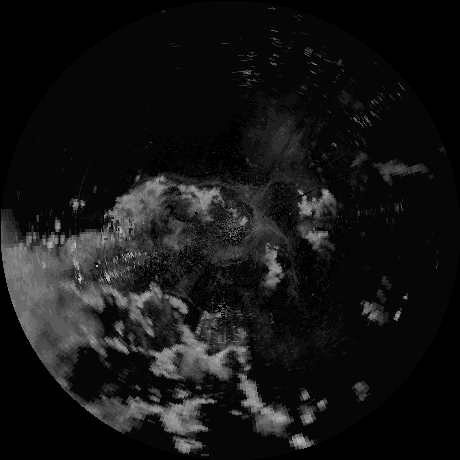frontgust: (193, 179, 239, 196), (166, 290, 201, 308), (272, 229, 294, 254)
